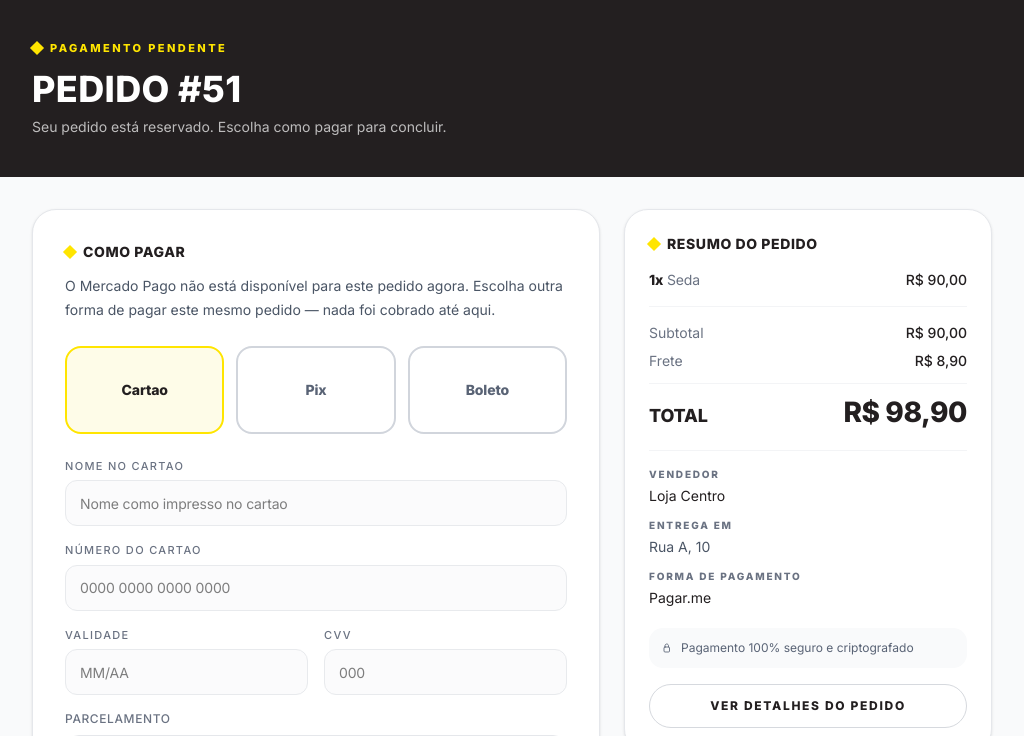
CheckoutPendingPayment — coleta a partir do servidor › sem gateway apto o pedido é encerrado com volta às compras
What coordinates should you click on to do the following:
click the button "Pix"
I would click on:
 (316, 390)
Its box is x1=236 y1=346 x2=396 y2=434.
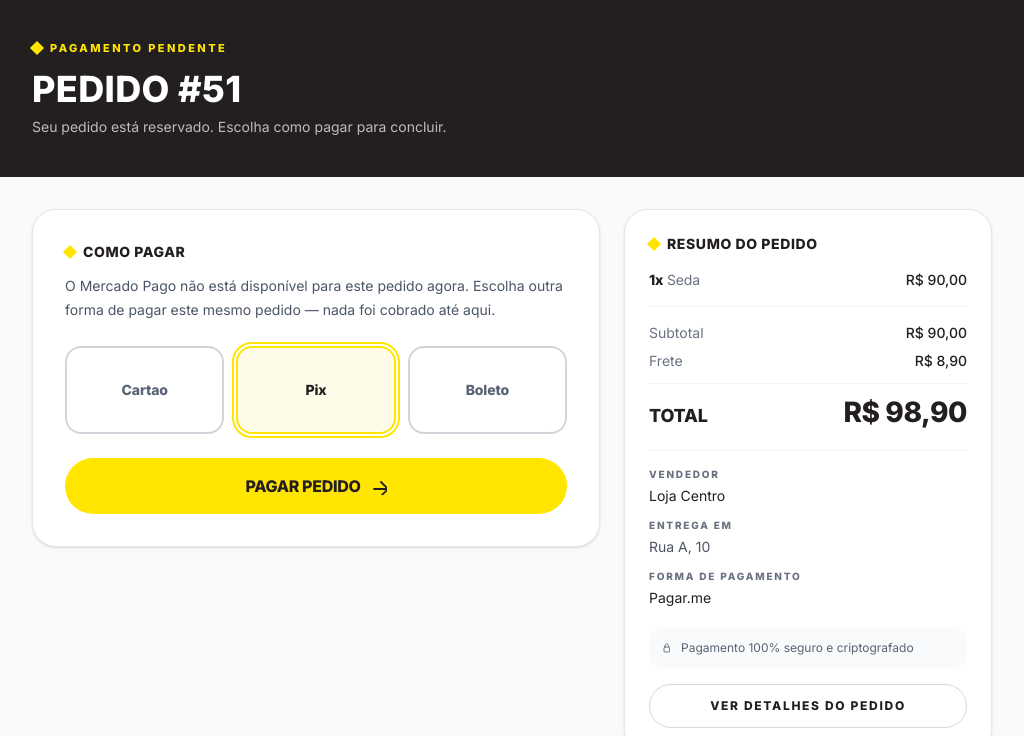
What coordinates should you click on to do the following:
click the button "Pagar pedido"
I would click on:
 (316, 486)
Its box is x1=65 y1=458 x2=567 y2=514.
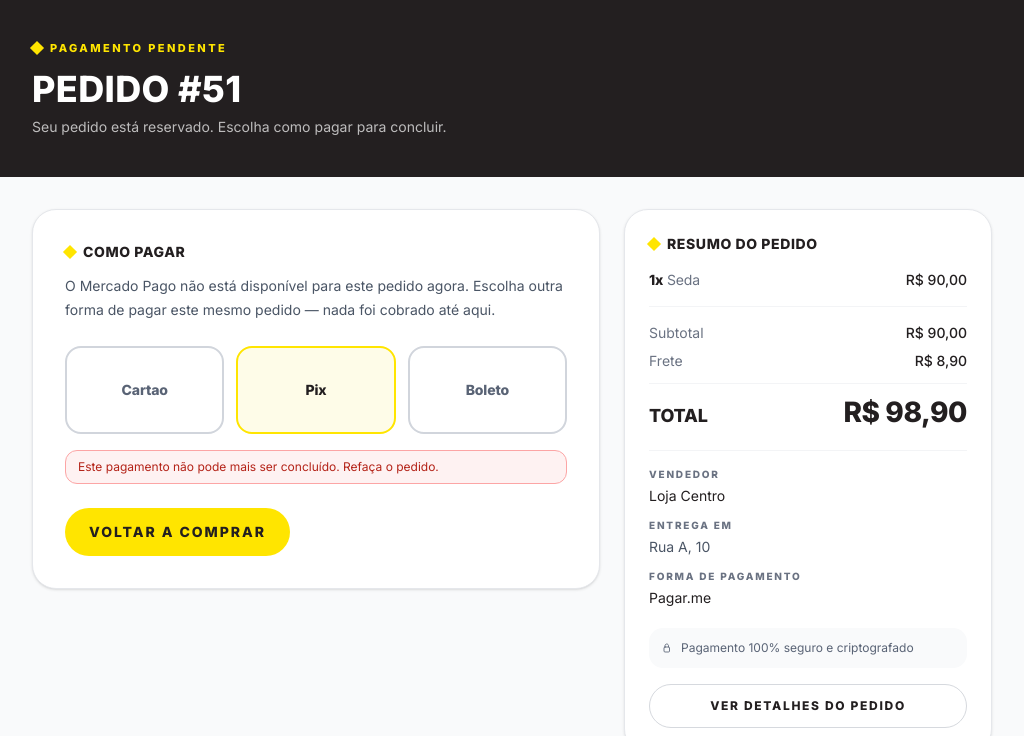
Check: the text "Este pagamento não pode mais ser concluído. Refaça o pedido." is shown, box x1=65 y1=450 x2=567 y2=484
Check: the button "Pagar pedido" is gone
